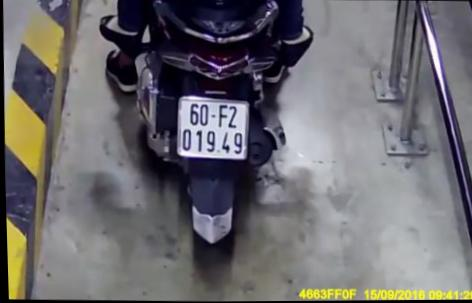LP: (174, 96, 249, 161)
